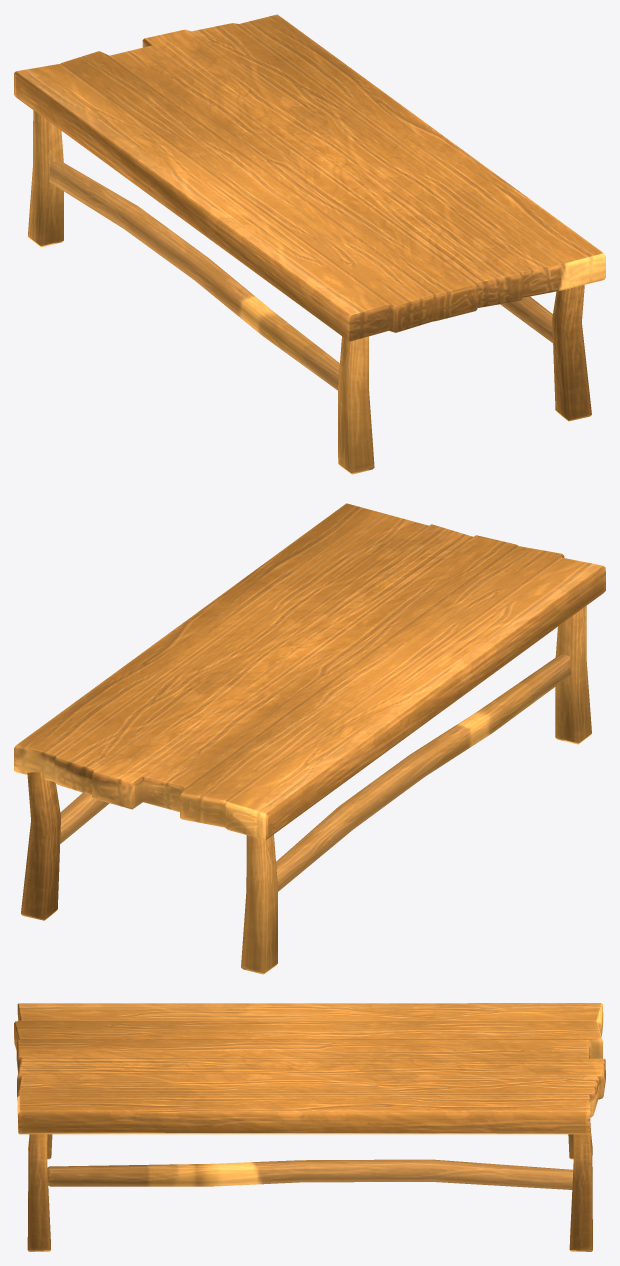
The model's file is SM_Stylized_Table_B.fbx.
The picture shows the model from 3 angles, top to bottom: view 1: azimuth 30°, elevation 25°; view 2: azimuth 150°, elevation 25°; view 3: azimuth 270°, elevation 25°; orthographic projection. The views are drawn at different scales.
Visible parts, largest first — view 1: SM_Stylized_Table_B_LOD0; view 2: SM_Stylized_Table_B_LOD0; view 3: SM_Stylized_Table_B_LOD0.
Boxes of the visible parts, x1,y1,x2,y2 form: SM_Stylized_Table_B_LOD0: (14,14,605,474); SM_Stylized_Table_B_LOD0: (14,503,605,974); SM_Stylized_Table_B_LOD0: (14,1003,605,1251).
Size of the model in its own units: 151 by 346 by 93.21.
